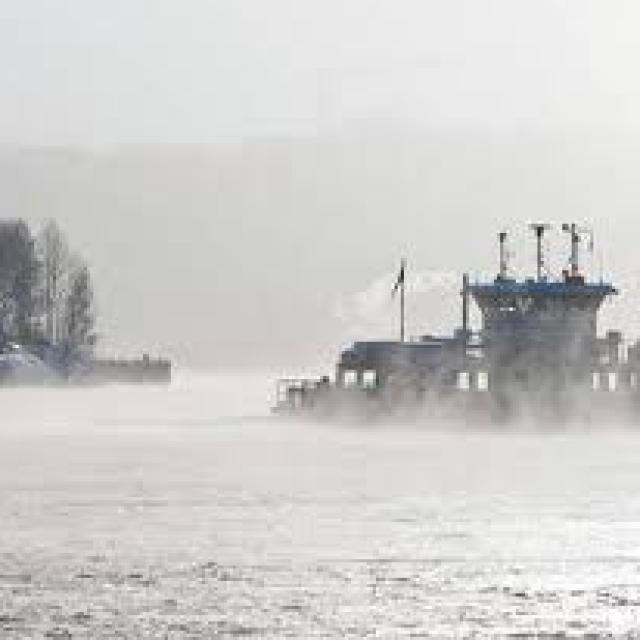fishing boat: (264, 227, 640, 438)
